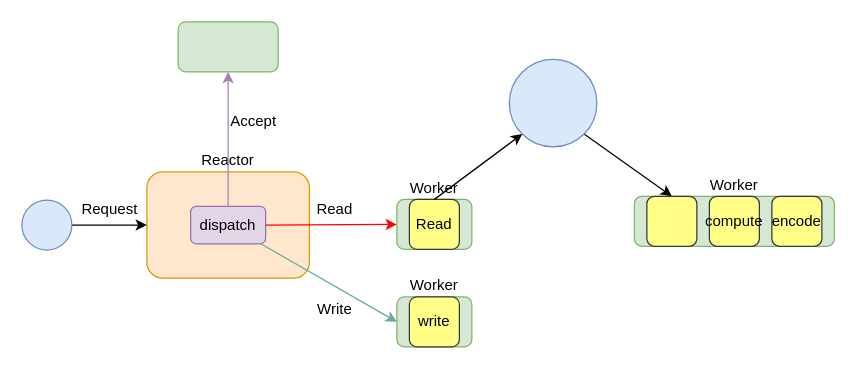
Some shapes in this 856 by 369 pixel diagram are drawn without their labels. Here are the shapes that lost their labels. From the top down, the box of each, then its label:
(177, 21, 278, 72): Accepter
(508, 58, 597, 147): ThreadPool
(21, 199, 72, 250): Client
(646, 195, 697, 246): decode
